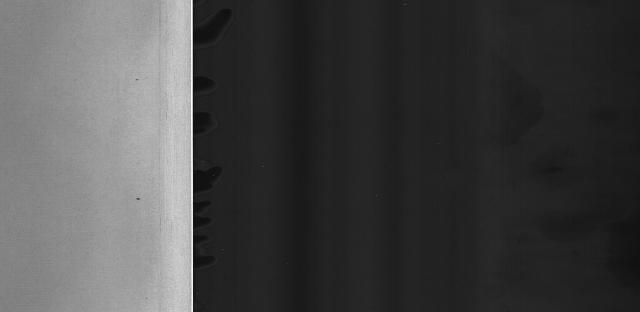inclusion: (133, 193, 145, 208)
